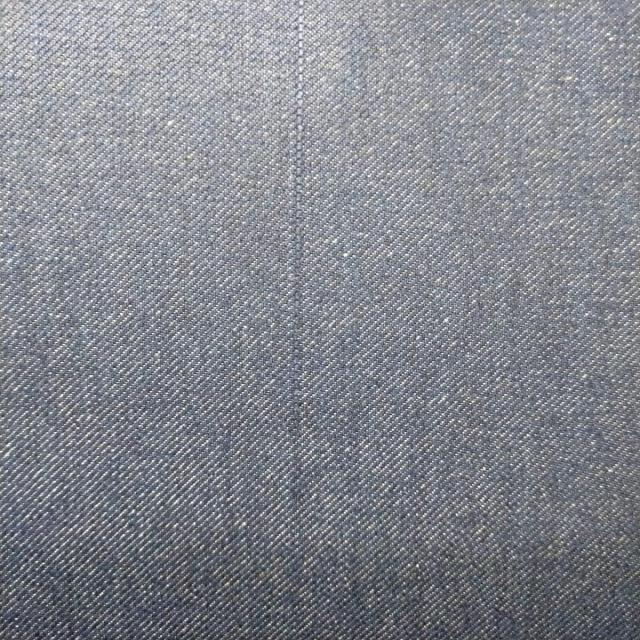Line: (285, 0, 305, 513)
